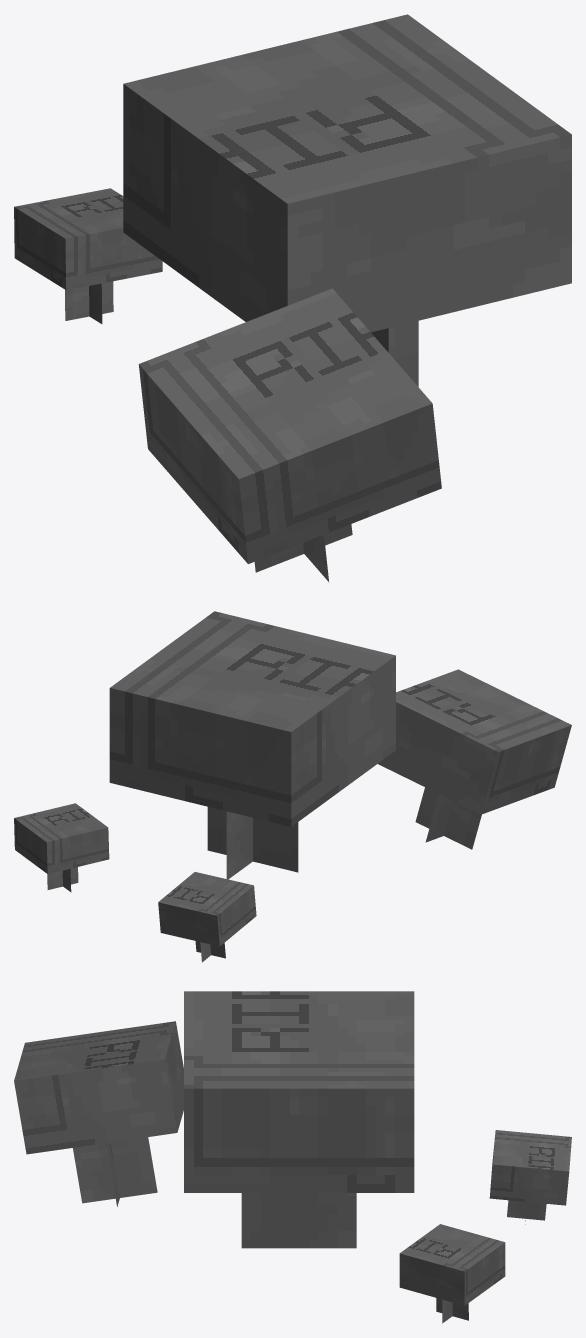
The model's file is Red-Mushroom-Multiple-named-nodes.gltf.
3 views of the same model, one above another, from view 1: azimuth 30°, elevation 25°; view 2: azimuth 150°, elevation 25°; view 3: azimuth 270°, elevation 25° (orthographic). The views are drawn at different scales.
Parts seen in each view (by area): view 1: cube (×3); view 2: cube (×4); view 3: cube (×4).
Boxes of the visible parts, x1,y1,x2,y2 form: cube (×3): (14,14,571,582); cube (×4): (14,611,571,962); cube (×4): (14,991,571,1323).
Bounding box in the file's own units: 0.7395 × 0.4011 × 0.9096.
